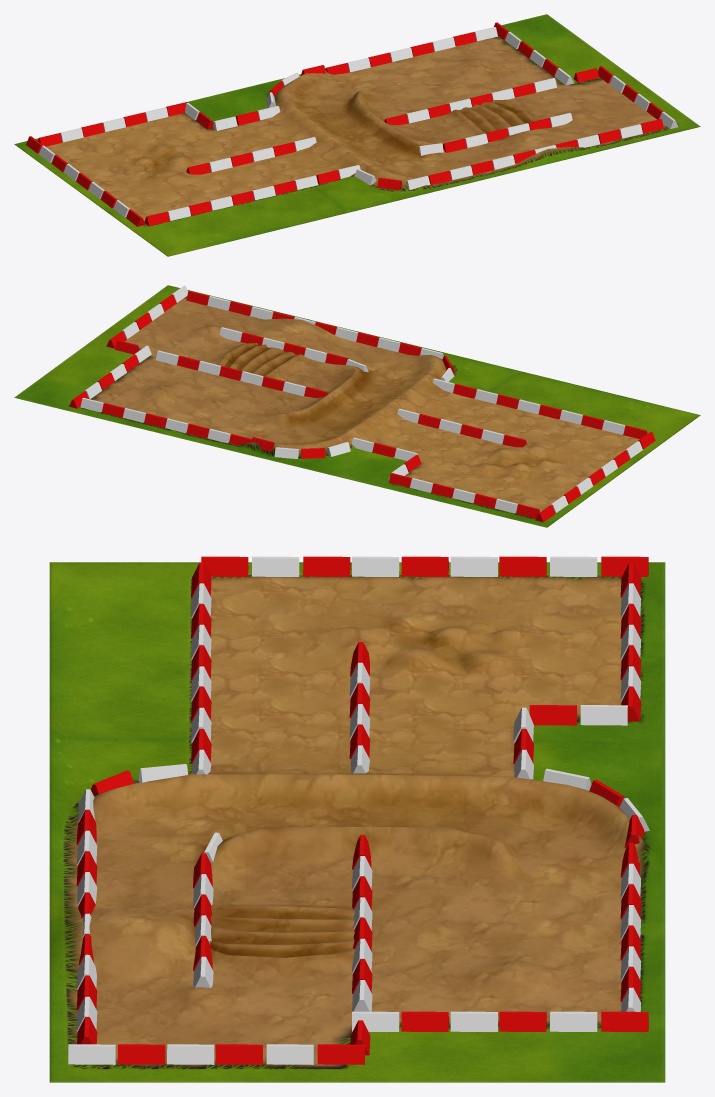
Rendered from Blaster Track.fbx.
3 views of the same model, one above another, from view 1: azimuth 30°, elevation 25°; view 2: azimuth 150°, elevation 25°; view 3: azimuth 270°, elevation 25° (orthographic). The views are drawn at different scales.
Parts seen in each view (by area): view 1: track; view 2: track; view 3: track, pCube87, pCube89, pCube88, pCube85, pCube84, pCube77, pCube86, pCube53, pCube60, pCube59, pCube57 (+12 smaller).
Part boxes in pixels (box(x1,y1,x2,y2)): track: box(14, 14, 700, 256); track: box(14, 285, 700, 527); track: box(49, 562, 665, 1082); pCube87: box(68, 1044, 115, 1064); pCube89: box(317, 1044, 364, 1064); pCube88: box(266, 1044, 313, 1064); pCube85: box(167, 1044, 214, 1064); pCube84: box(215, 1044, 262, 1064); pCube77: box(580, 705, 627, 725); pCube86: box(118, 1044, 165, 1064); pCube53: box(450, 556, 497, 576); pCube60: box(252, 556, 299, 576); pCube59: box(303, 556, 350, 576); pCube57: box(550, 556, 597, 576).
Bounding box in the file's own units: 466 × 9.18 × 233.
